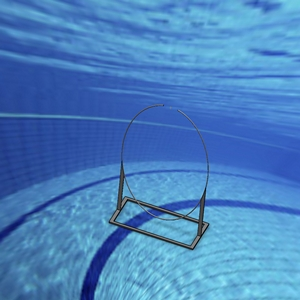circle: (107, 102, 213, 250)
